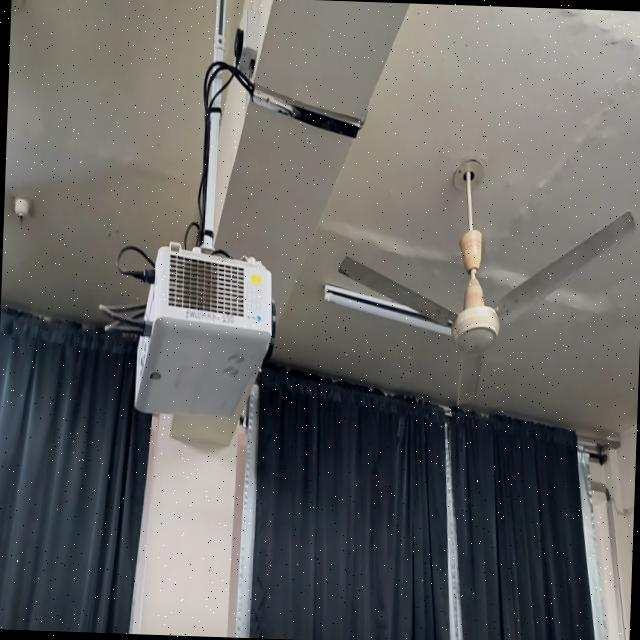Light: (324, 283, 450, 335)
Projector: (135, 246, 272, 416)
